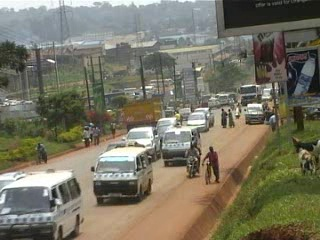Car: (119, 123, 166, 163), (0, 168, 33, 204), (100, 138, 139, 156), (156, 123, 185, 145), (192, 104, 217, 129), (152, 116, 181, 136), (185, 110, 209, 133), (173, 106, 195, 122), (204, 94, 223, 112)
Motorcycle: (183, 138, 203, 179), (232, 98, 243, 117), (171, 110, 184, 126), (228, 97, 236, 110)
